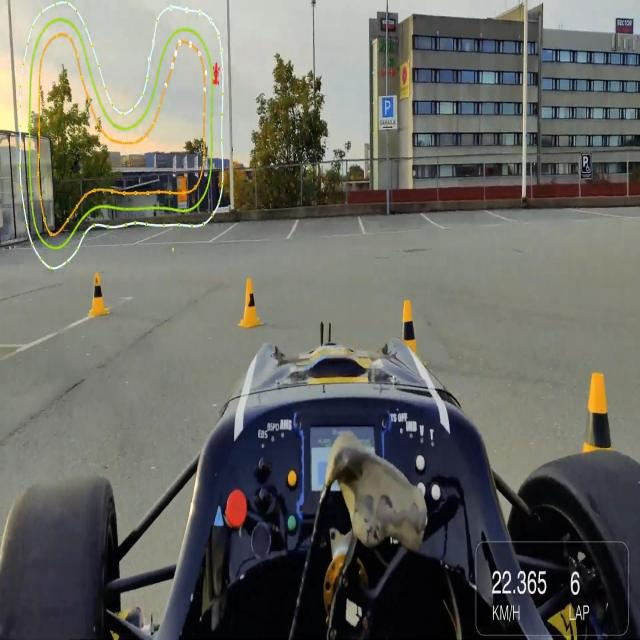yellow_cone: (578, 367, 624, 468), (232, 271, 268, 333), (396, 292, 427, 364), (81, 268, 113, 328)
